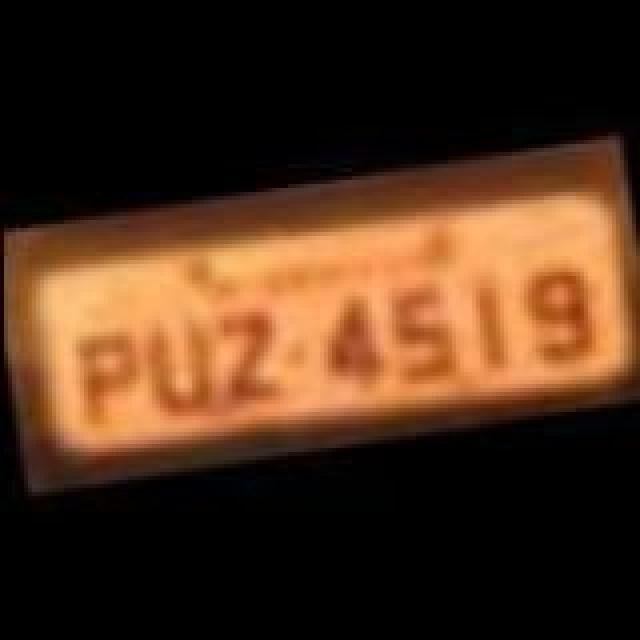1: (468, 274, 516, 374)
4: (314, 288, 390, 392)
5: (382, 284, 458, 392)
9: (518, 266, 594, 370)
P: (72, 332, 148, 440)
U: (140, 314, 220, 422)
Z: (212, 306, 292, 414)
